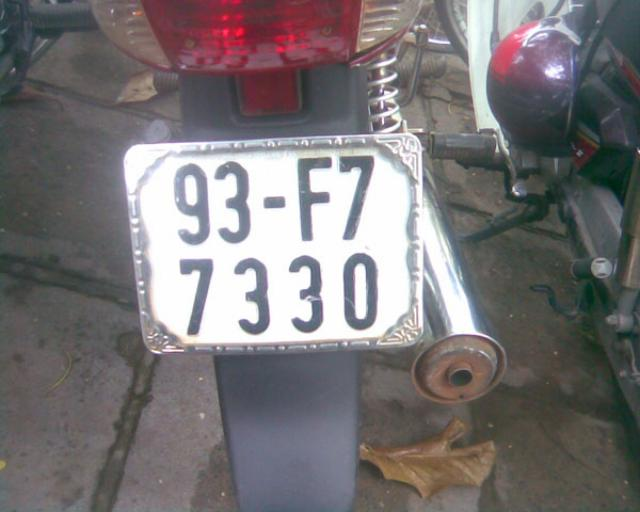plate: (118, 137, 426, 349)
